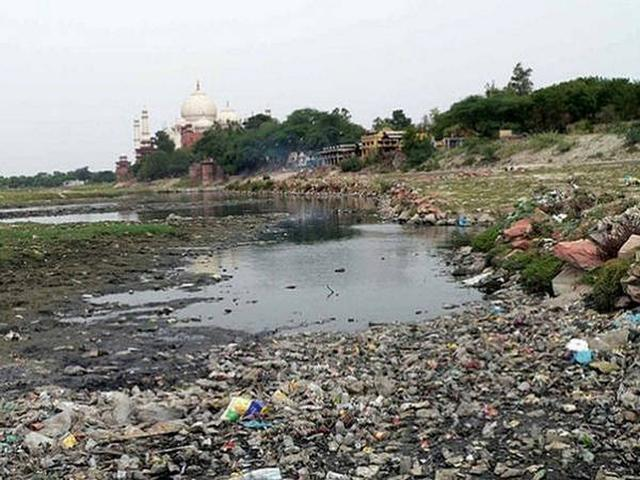garbage: (69, 349, 608, 449)
